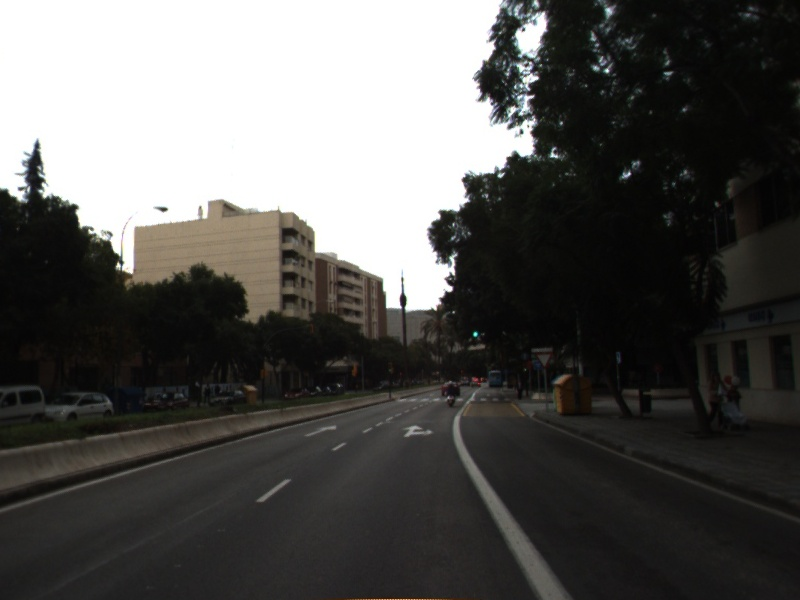STRAIGHT: (302, 423, 339, 439)
STRAIGHT_RIGHT: (400, 423, 437, 440)
